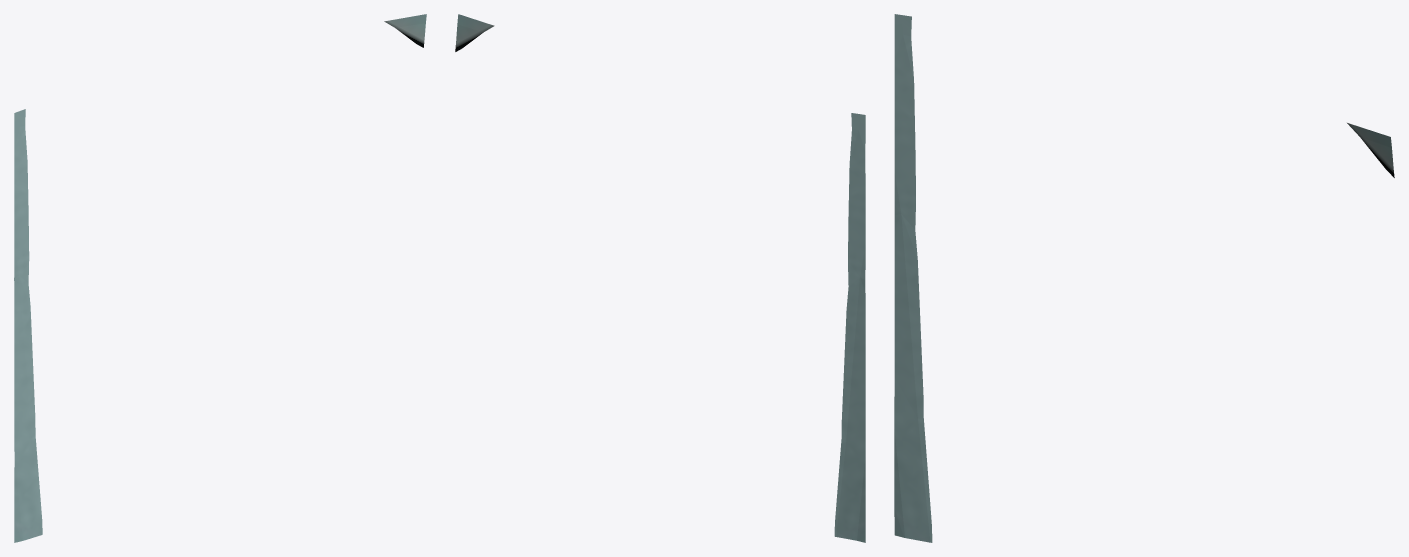
3 views of the same model, side by side, from view 1: azimuth 30°, elevation 25°; view 2: azimuth 150°, elevation 25°; view 3: azimuth 330°, elevation 25° (orthographic). The views are drawn at different scales.
Bounding box in the file's own units: 85.74 × 85.74 × 1.11.
Materials: 1 (1 with a texture image).
